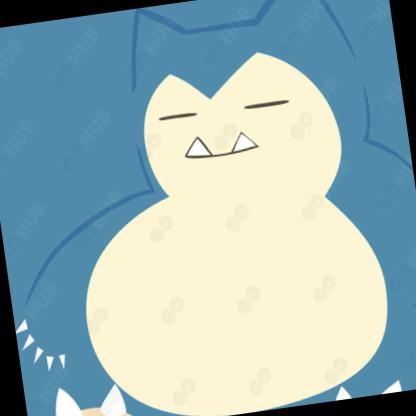Snorlax: (1, 1, 416, 416)
